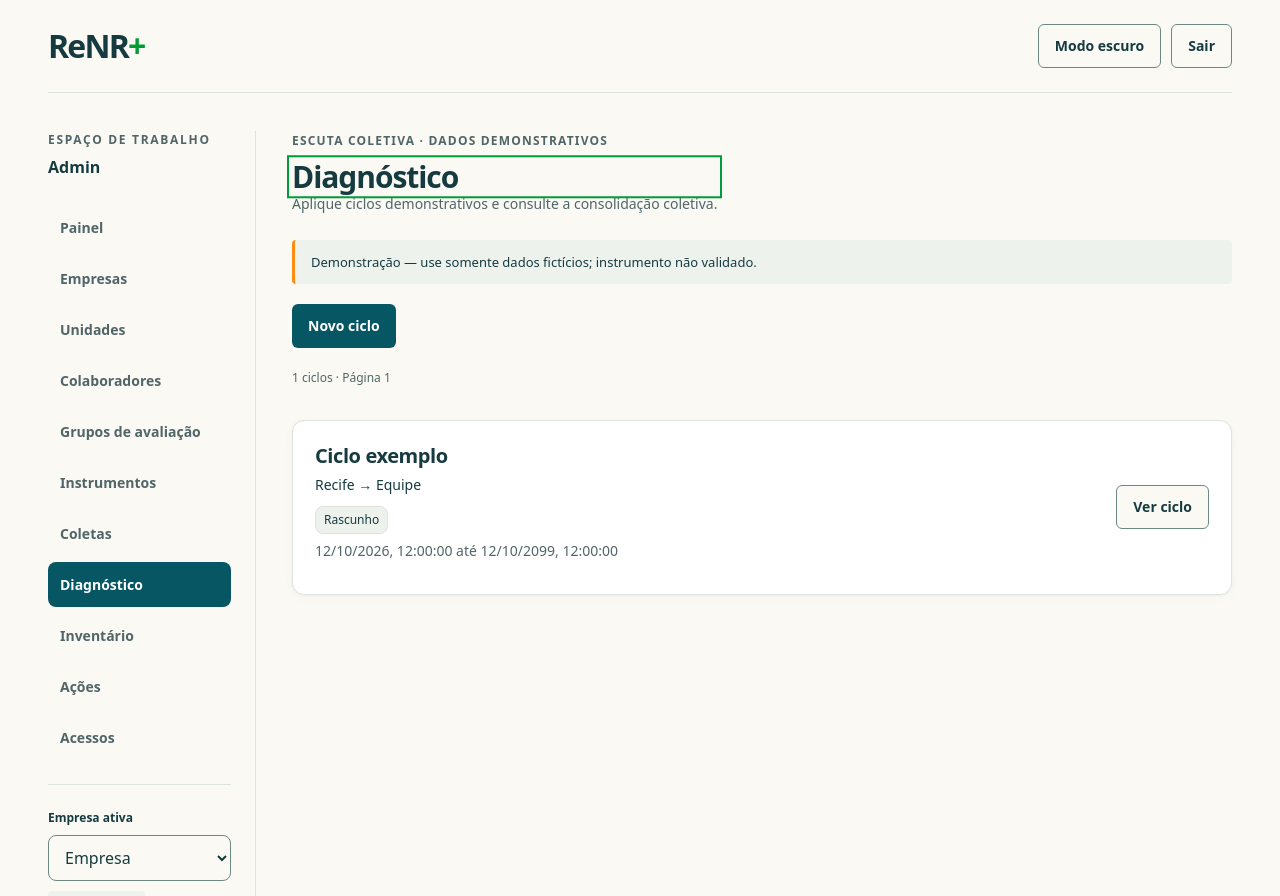
explica conflito do ciclo sem sugerir cadastro duplicado
Click the button named "Ver ciclo Ciclo exemplo" at [1163, 508], box [1116, 486, 1209, 530]
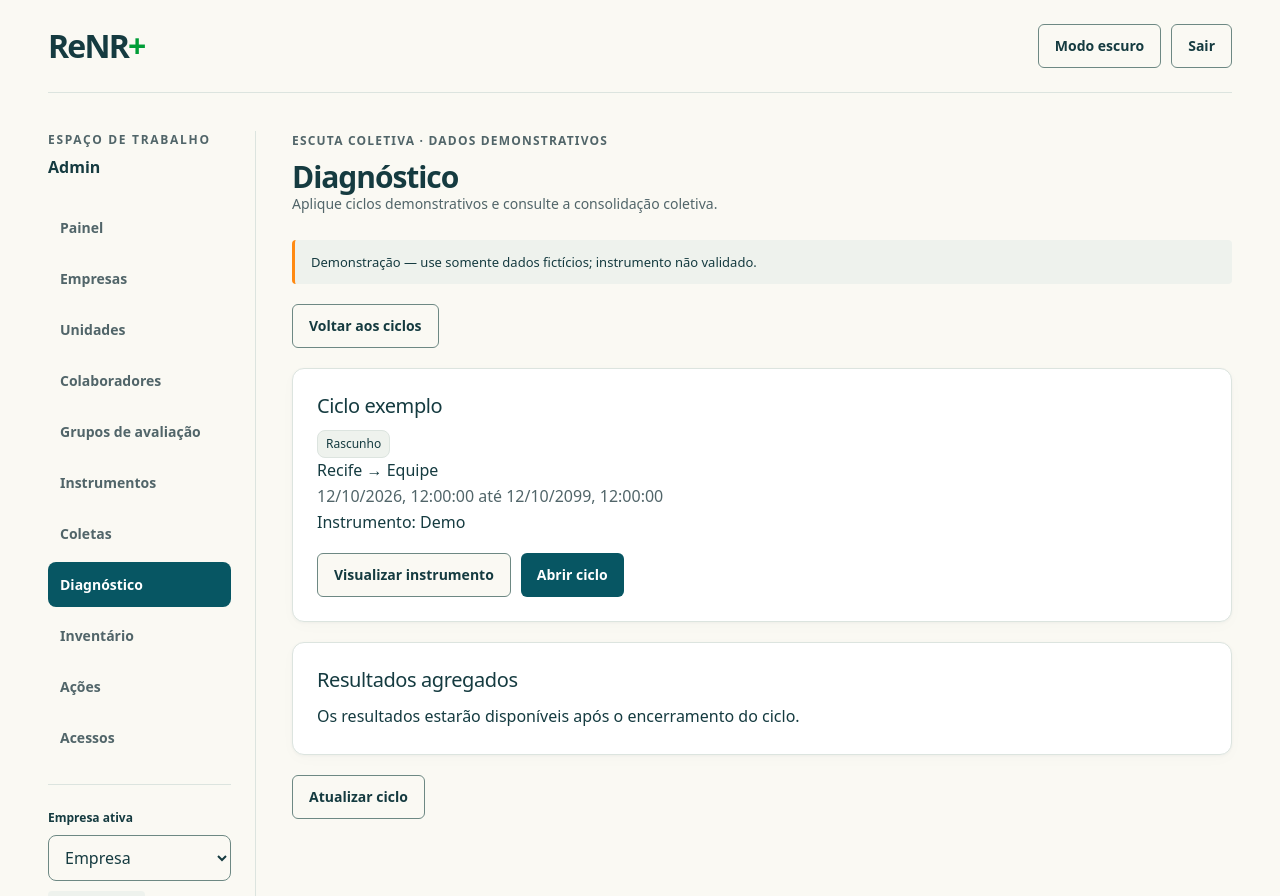
Click the button "Abrir ciclo" at [572, 575], box [521, 553, 624, 597]
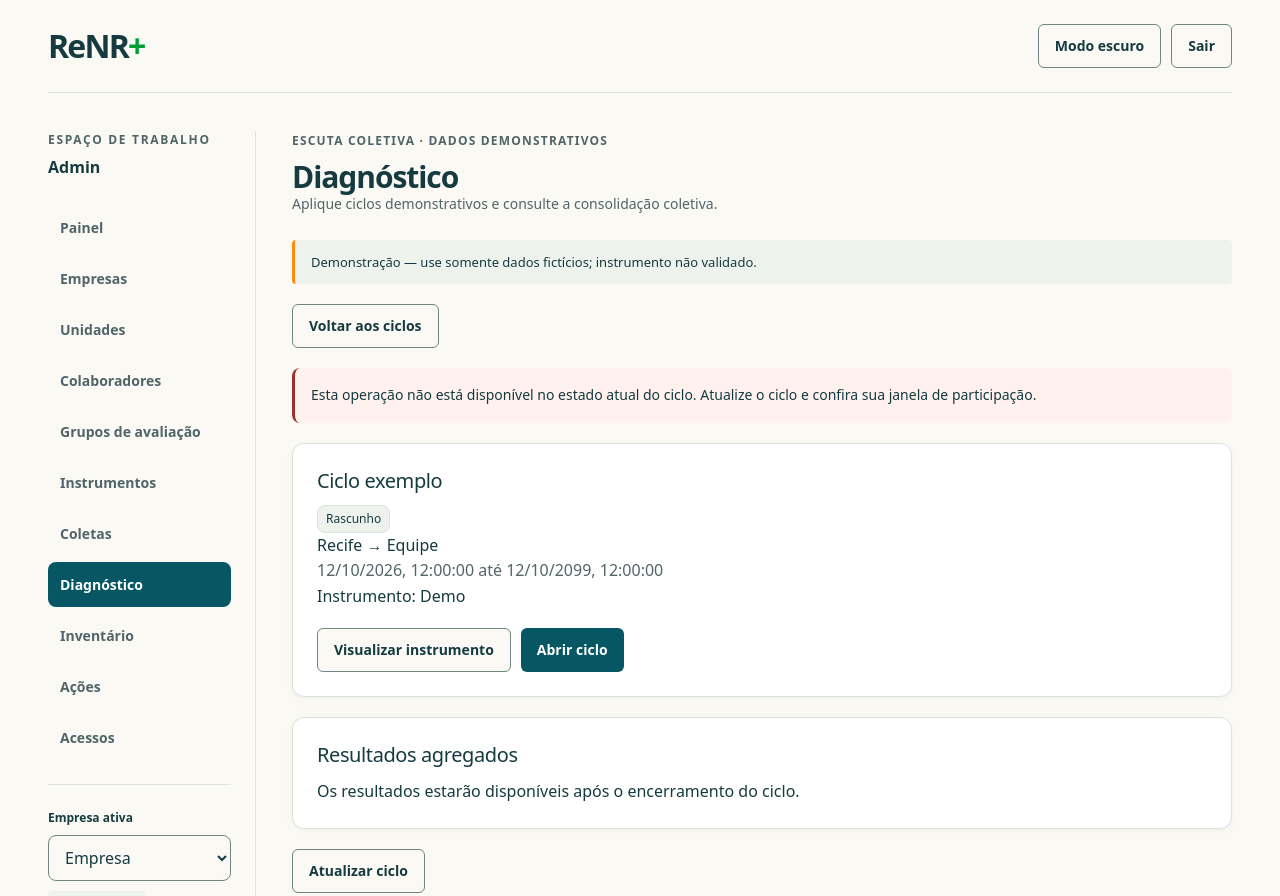
Check: the message does not show "cadastro", box [292, 368, 1232, 423]
Check: the message shows "estado atual do ciclo", box [311, 385, 1036, 404]
